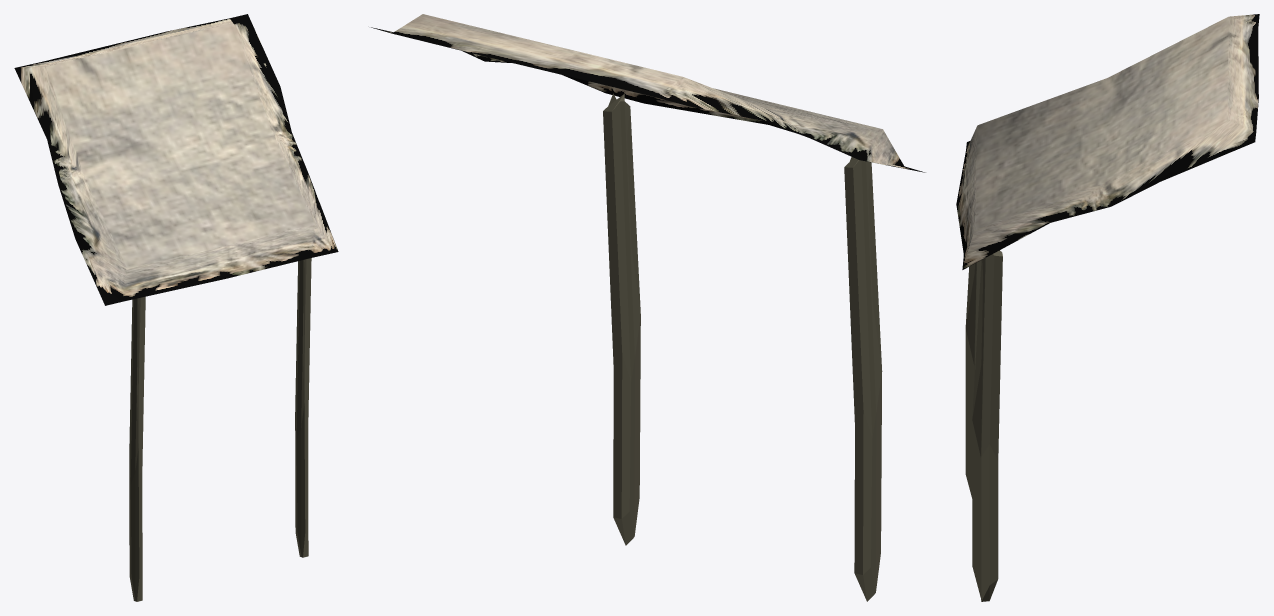
Rendered from shopawning.glb.
3 renders of one model, left to right at view 1: azimuth 30°, elevation 25°; view 2: azimuth 150°, elevation 25°; view 3: azimuth 270°, elevation 25°, orthographic. The views are drawn at different scales.
Visible parts, largest first — view 1: shopawning; view 2: shopawning; view 3: shopawning.
Boxes of the visible parts, box(x1,y1,x2,y2) form: shopawning: box(14, 14, 338, 601); shopawning: box(371, 14, 925, 601); shopawning: box(956, 14, 1259, 601).
Bounding box in the file's own units: 0.1821 × 0.2883 × 0.157.
2 materials, 2 textured.
